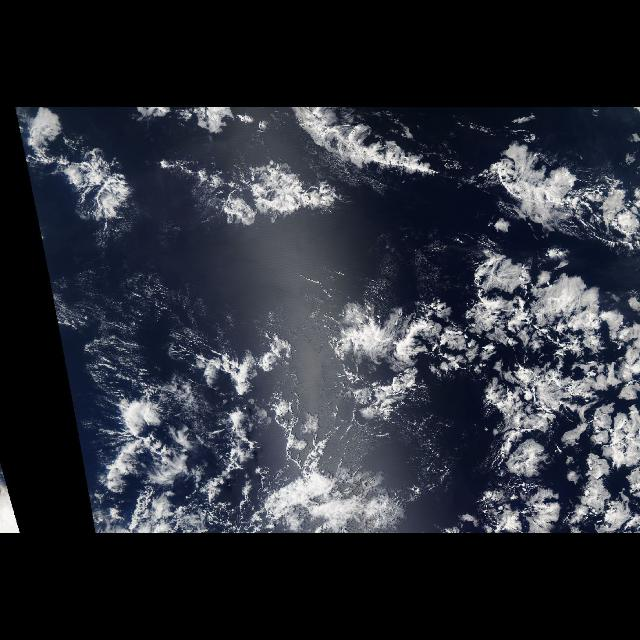Flower: (19, 108, 638, 258)
